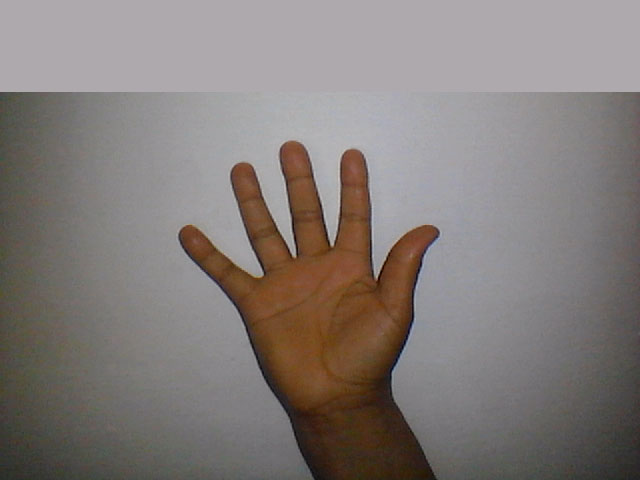hand: (168, 130, 443, 385)
